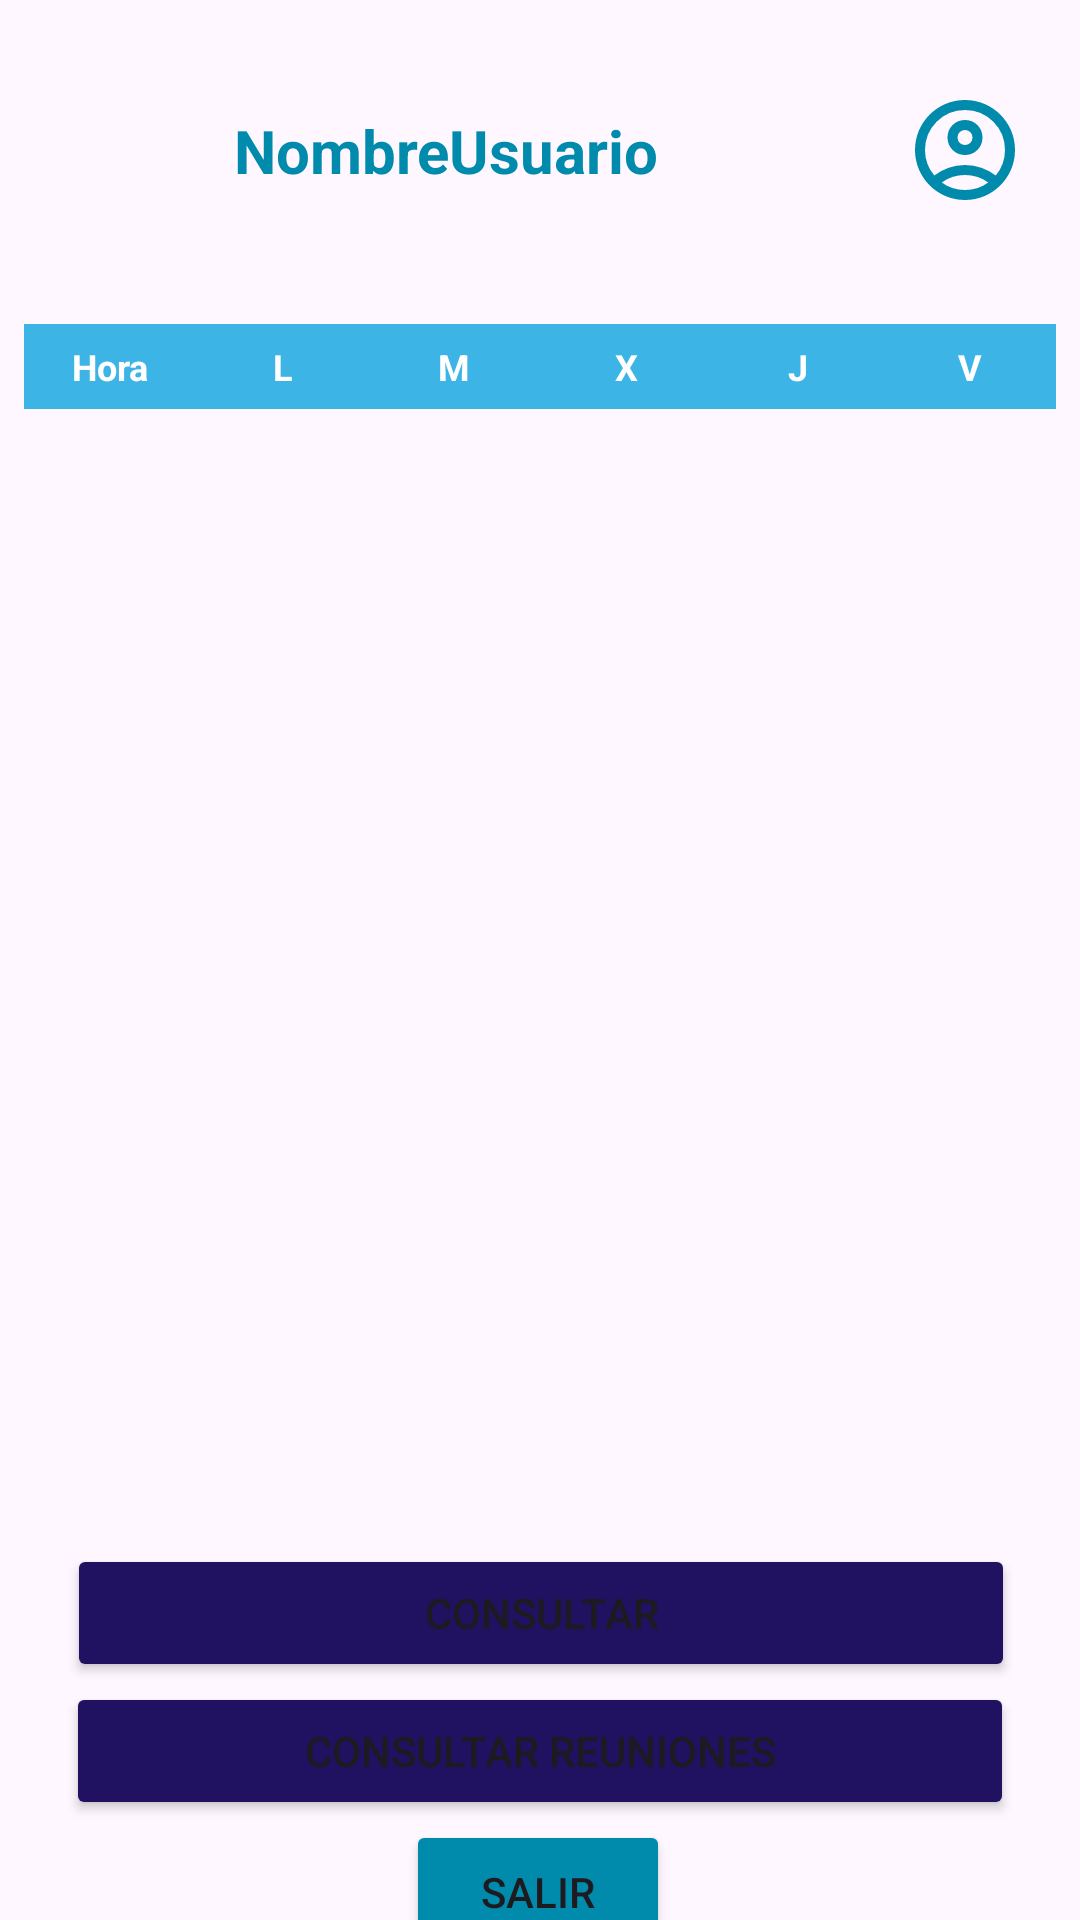

Icons on this 1080px x 1920px Android screen, each with the point to tap as (x=x, y=y):
Perfil: (x=965, y=150)
